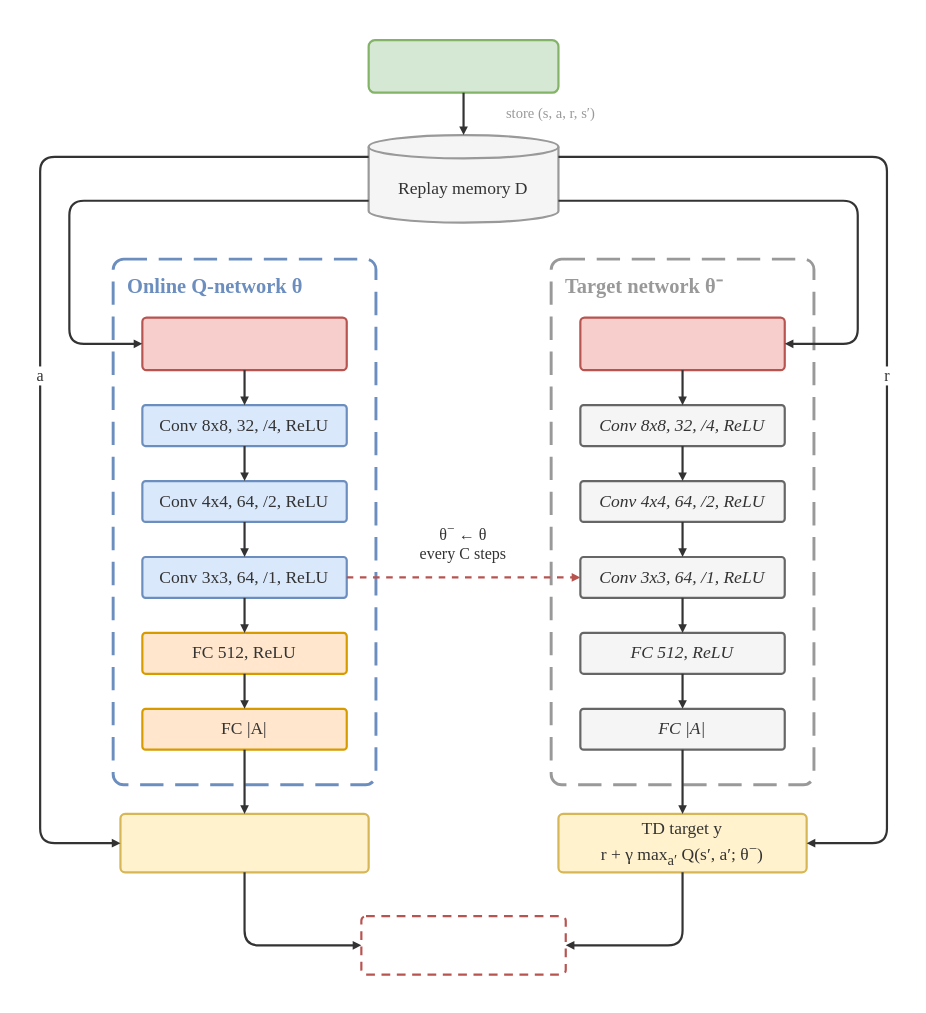
This 926x1013 diagram has some shape labels left out. Each missing label, with the centre of its shape:
Environment: (x=463, y=65)
Next state s′ 84 x 84 x 4: (x=682, y=343)
Q(s, a; θ) of taken action a: (x=244, y=842)
State s 84 x 84 x 4: (x=244, y=343)
TD loss (y − Q(s, a; θ)) 2: (x=463, y=944)
